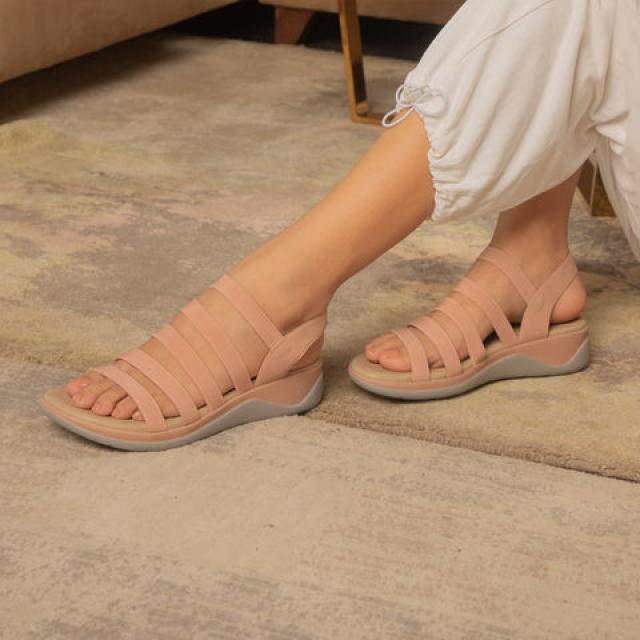Sandals: (44, 258, 330, 454), (346, 245, 608, 401)
